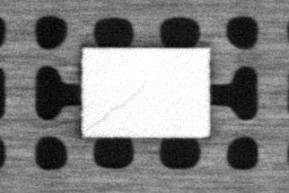DIE_CRACK: (86, 84, 146, 131)
